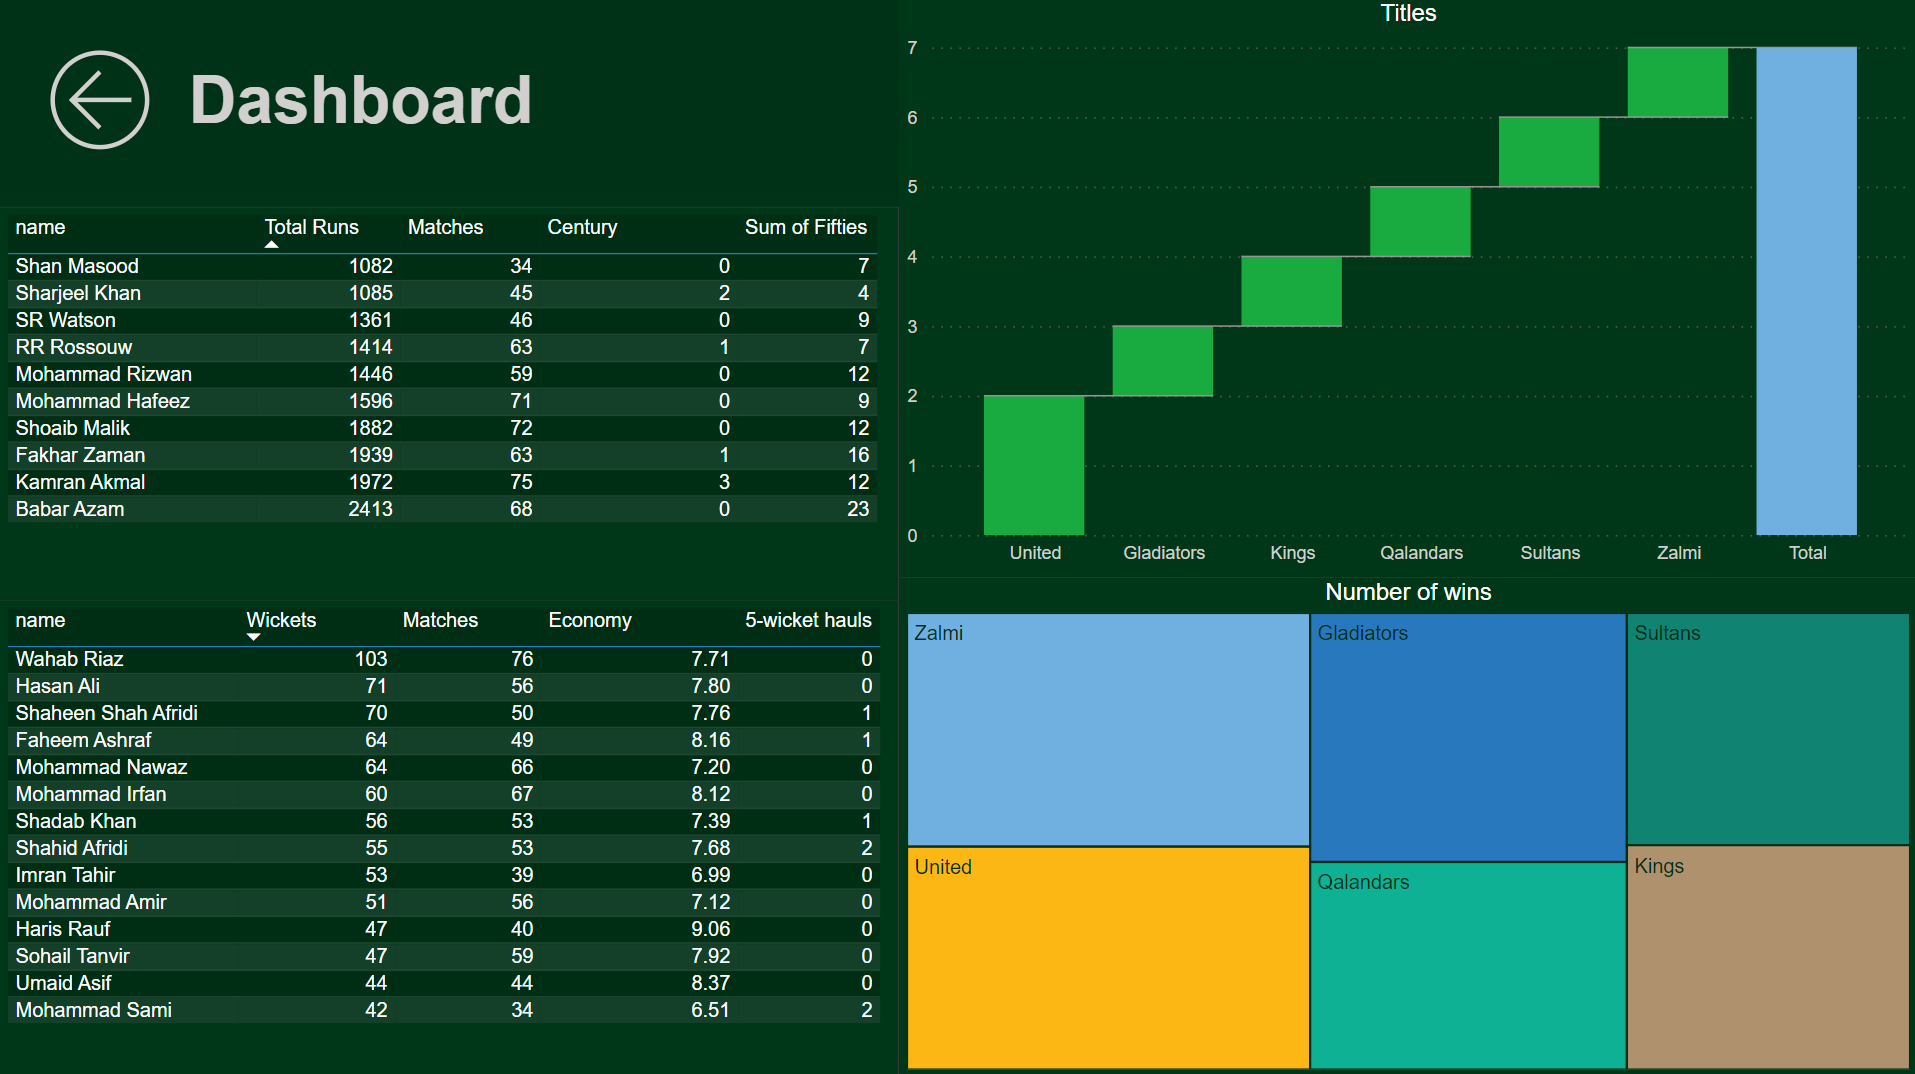

Layout of this report page (visuals, bound fields, positions):
{"tool":"powerbi","page":{"name":"Overall 1","canvas":[1280,720],"ordinal":1},"visuals":[{"type":"tableEx","fields":{"Values":["BATTING STATS.name","BATTING STATS.Total Runs","BATTING STATS.Matches","BATTING STATS.Century","BATTING STATS.Fifties"]},"box":[0,138.8,600.3,262.1],"z":0},{"type":"tableEx","fields":{"Values":["BOWLING STATS.name","BOWLING STATS.Wickets","BOWLING STATS.Matches","BOWLING STATS.Economy","BOWLING STATS.5-wicket hauls"]},"box":[0,400.9,600.2,318.7],"z":1000},{"type":"waterfallChart","title":"Titles","fields":{"Category":["Titles.Team"],"Y":["Titles.Titles"]},"box":[600.5,0,680.2,385.7],"z":2000},{"type":"treemap","title":"Number of wins","fields":{"Group":["Wins.Winner"],"Values":["Wins.Wins"]},"box":[600.4,386.2,679.9,332.9],"z":3000},{"type":"actionButton","box":[0,0,600.5,138.9],"z":4000}]}

Visuals, with their boxes in screenshot pixels (x1, y1, x2, y2), scaled from the page's 1280x720 canvas onto the 1915x1074 screenshot:
tableEx - BATTING STATS.name x BATTING STATS.Total Runs: (0, 207, 898, 598)
tableEx - BOWLING STATS.name x BOWLING STATS.Wickets: (0, 598, 898, 1073)
"Titles" waterfallChart: (898, 0, 1914, 575)
"Number of wins" treemap: (898, 576, 1914, 1073)
actionButton: (0, 0, 898, 207)
